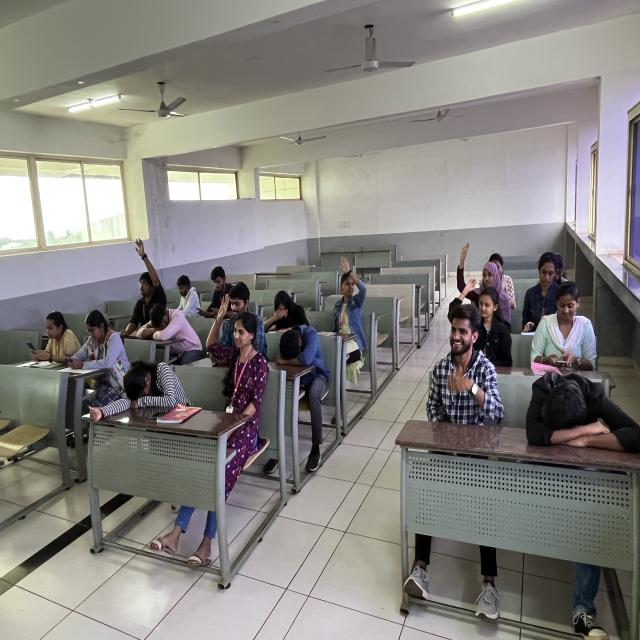Hand Rising: (202, 298, 280, 430), (106, 224, 178, 332), (448, 279, 520, 360), (326, 250, 377, 362), (449, 241, 519, 315)
Reading: (519, 258, 575, 340)
Sleeping: (523, 362, 640, 465), (91, 351, 196, 448), (276, 323, 338, 423), (138, 301, 213, 370)
Using Phone: (528, 280, 605, 372), (11, 293, 80, 384), (66, 308, 128, 396), (196, 255, 240, 324)
